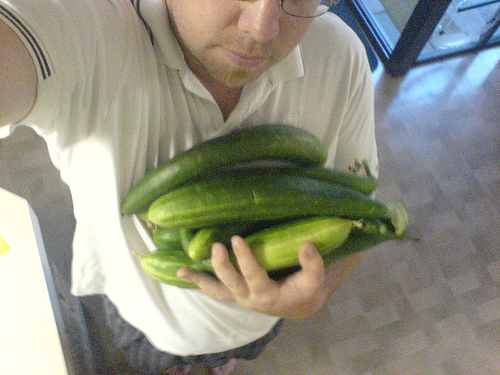cucumber: (120, 128, 329, 217), (134, 217, 361, 288), (147, 171, 392, 232)
